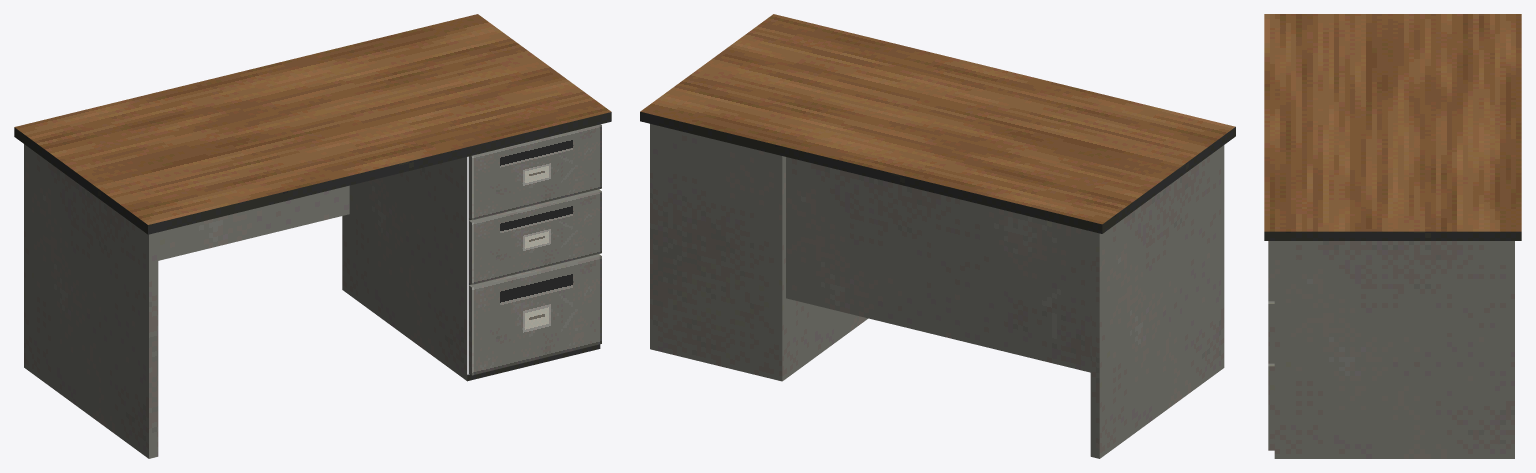
Rendered from desk_office.glb.
3 renders of one model, left to right at view 1: azimuth 30°, elevation 25°; view 2: azimuth 150°, elevation 25°; view 3: azimuth 270°, elevation 25°, orthographic. The views are drawn at different scales.
Parts seen in each view (by area): view 1: desk_office; view 2: desk_office; view 3: desk_office.
Part boxes in pixels (<box>): desk_office: <box>14,14,611,458</box>; desk_office: <box>640,14,1235,458</box>; desk_office: <box>1264,14,1521,458</box>.
Bounding box in the file's own units: 1.5 × 0.74 × 0.75.
Materials: 4 (4 with a texture image).
